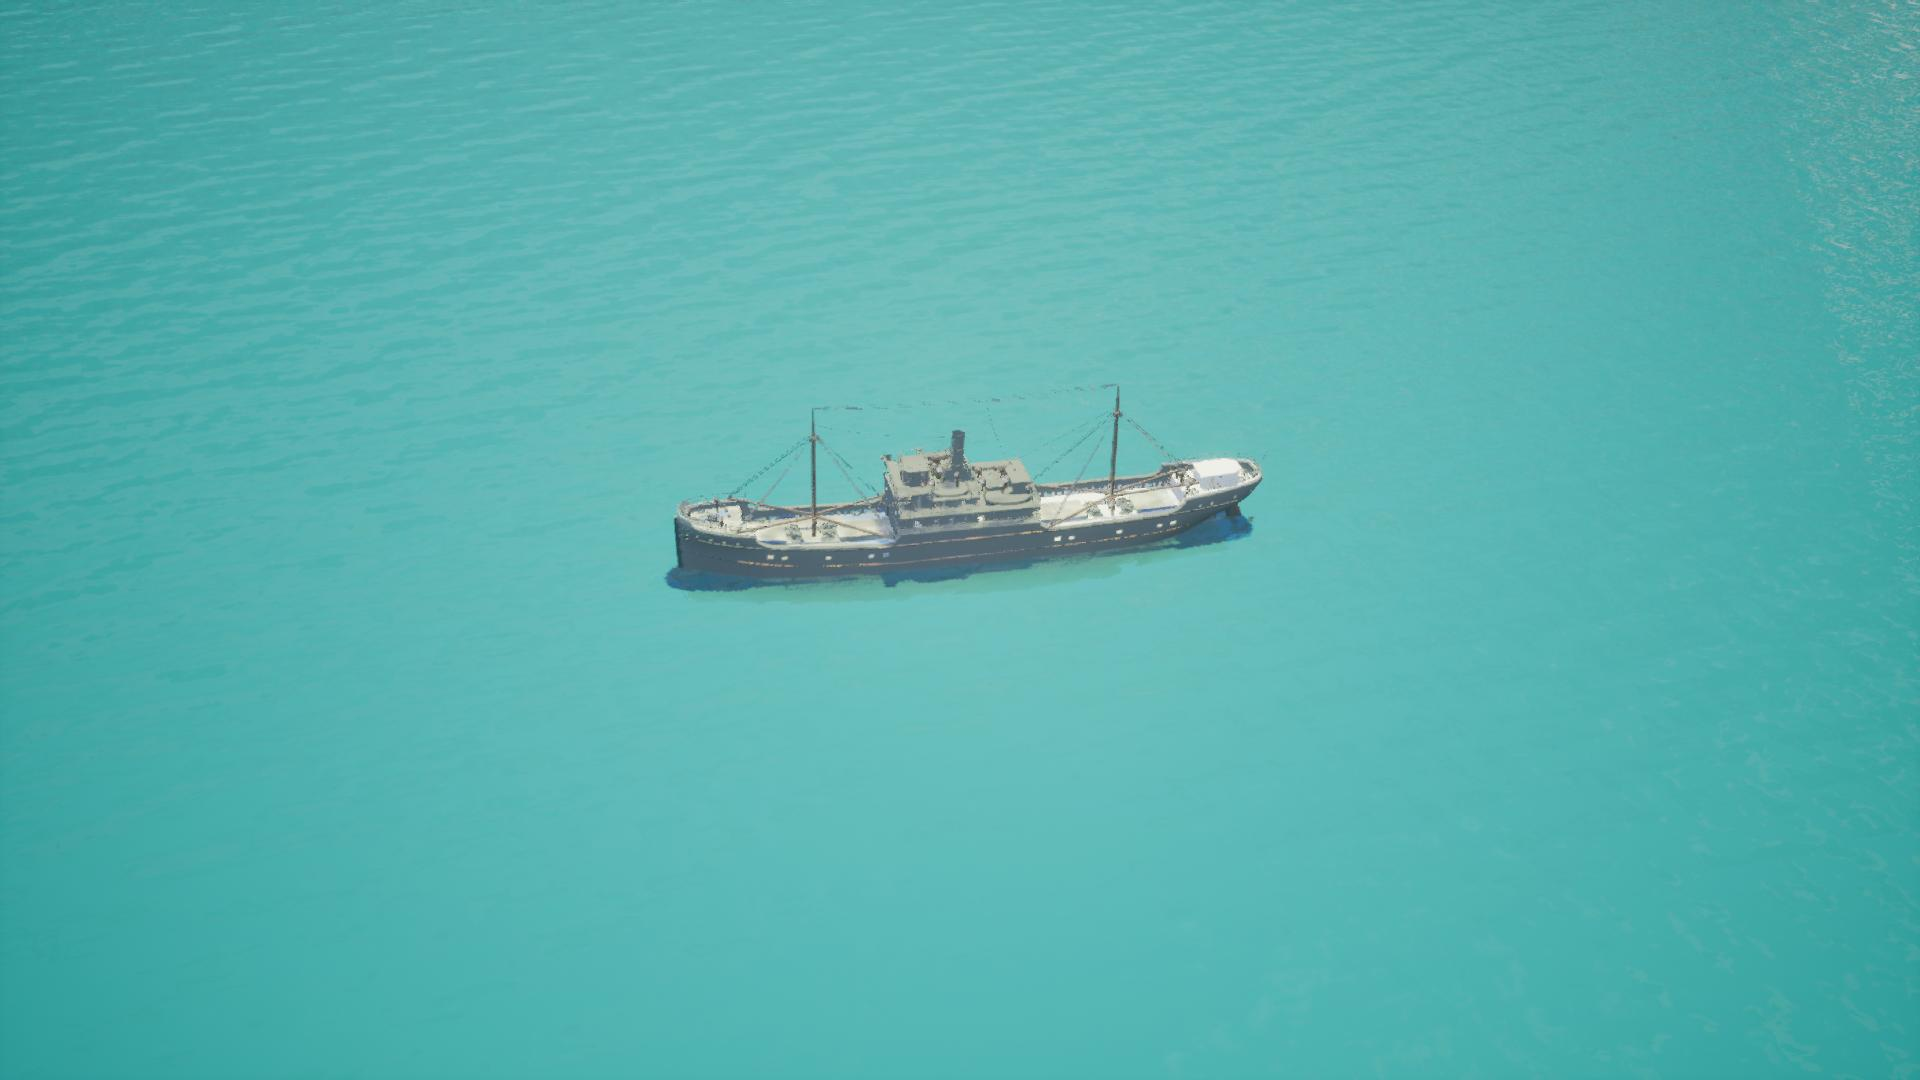Fishing Boat: (674, 390, 1259, 592)
